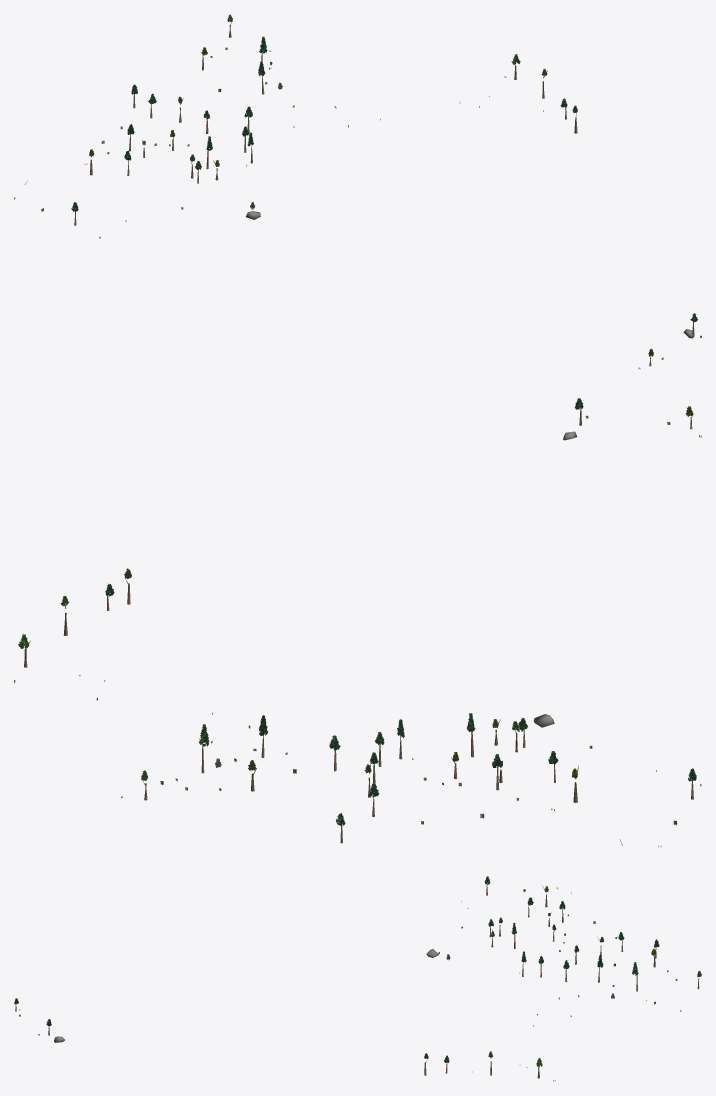
Rendered from arch_land_scatter_c19_19_lod1.glb.
3 views of the same model, one above another, from view 1: azimuth 30°, elevation 25°; view 2: azimuth 150°, elevation 25°; view 3: azimuth 270°, elevation 25° (orthographic). The views are drawn at different scales.
Visible parts, largest first — view 1: arch_land_scatter_c19_19_lod1; view 2: arch_land_scatter_c19_19_lod1; view 3: arch_land_scatter_c19_19_lod1.
Part boxes in pixels (x1=…): arch_land_scatter_c19_19_lod1: x1=14, y1=14, x2=701, y2=368; arch_land_scatter_c19_19_lod1: x1=14, y1=398, x2=701, y2=847; arch_land_scatter_c19_19_lod1: x1=14, y1=876, x2=701, y2=1081.
Bounding box in the file's own units: 167 × 19.85 × 245.
